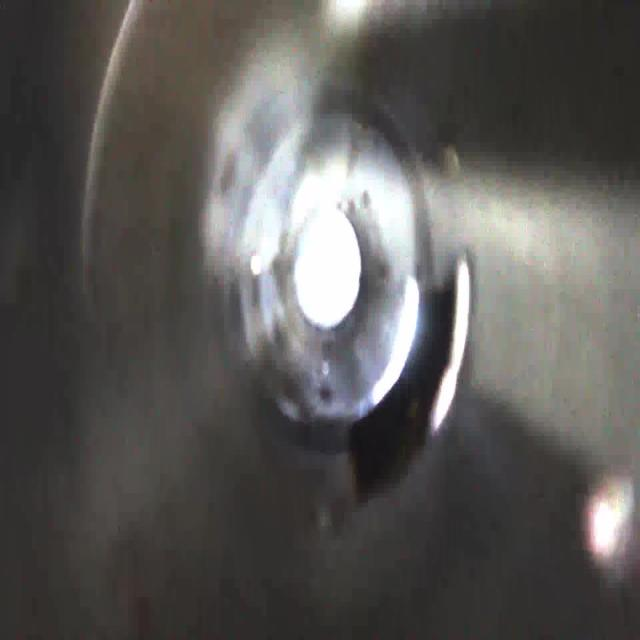hole: (332, 245, 478, 522)
